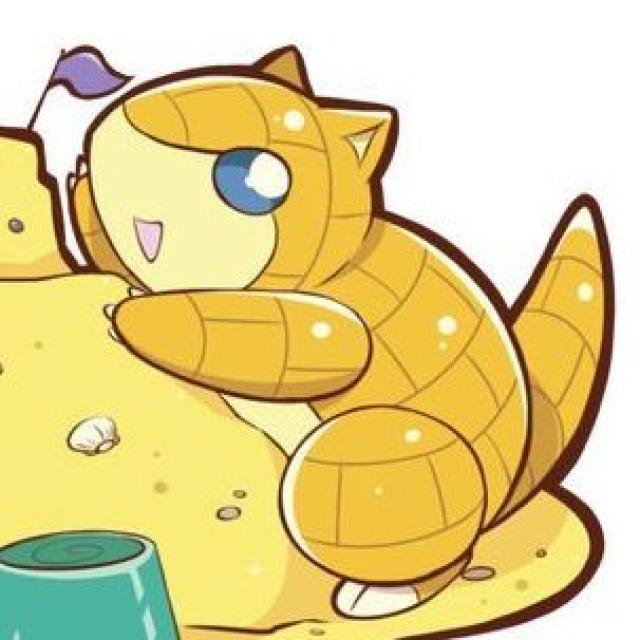Sandshrew: (106, 38, 617, 474)
